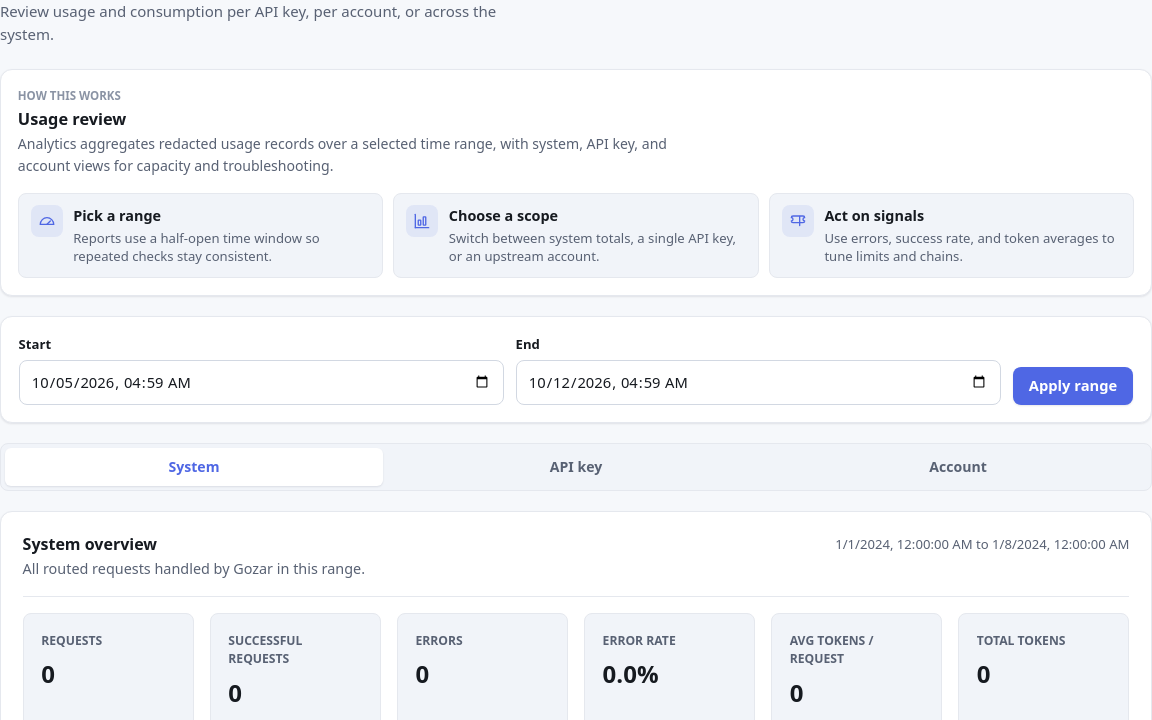
Test case: AnalyticsPage async states (Requirement 17.4) › renders an empty state when a scope has no subjects to report on
Click the tab "API key" at (576, 467), box left=387, top=448, right=765, bottom=486
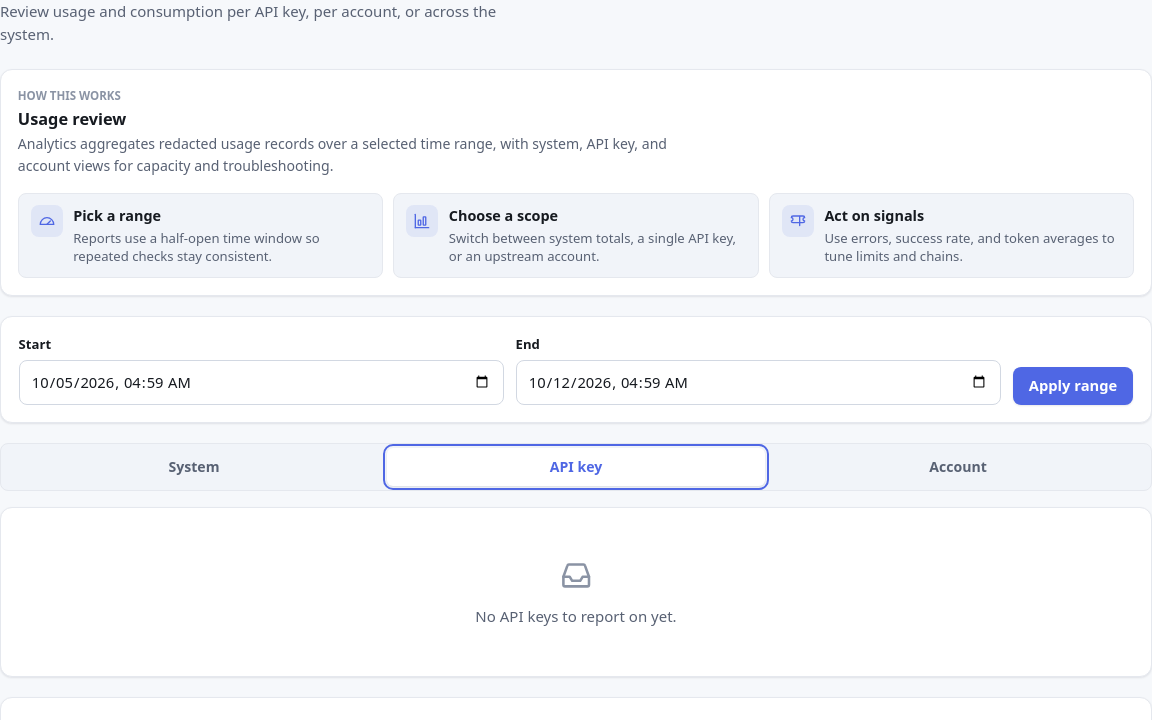
Check: the text "No API keys to report on yet." is shown, box left=475, top=605, right=677, bottom=628
